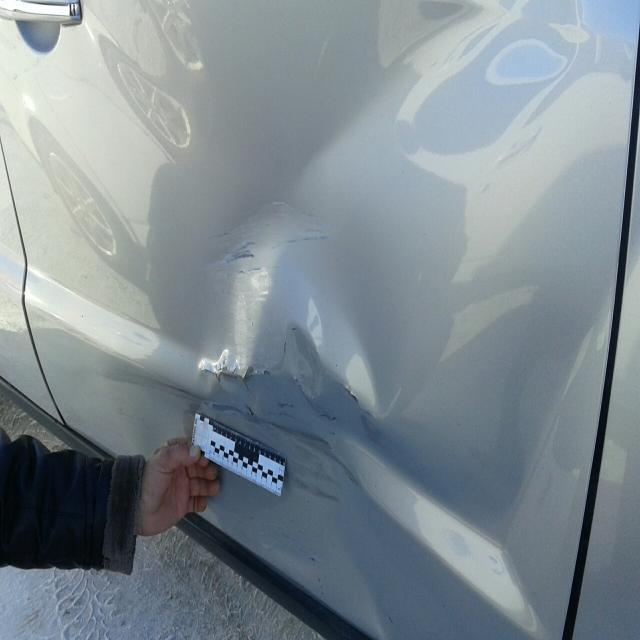Cabossage: (122, 112, 510, 578)
Dechirure: (186, 355, 286, 388), (332, 366, 376, 424)
Rayure: (200, 394, 352, 500), (206, 198, 328, 269)
